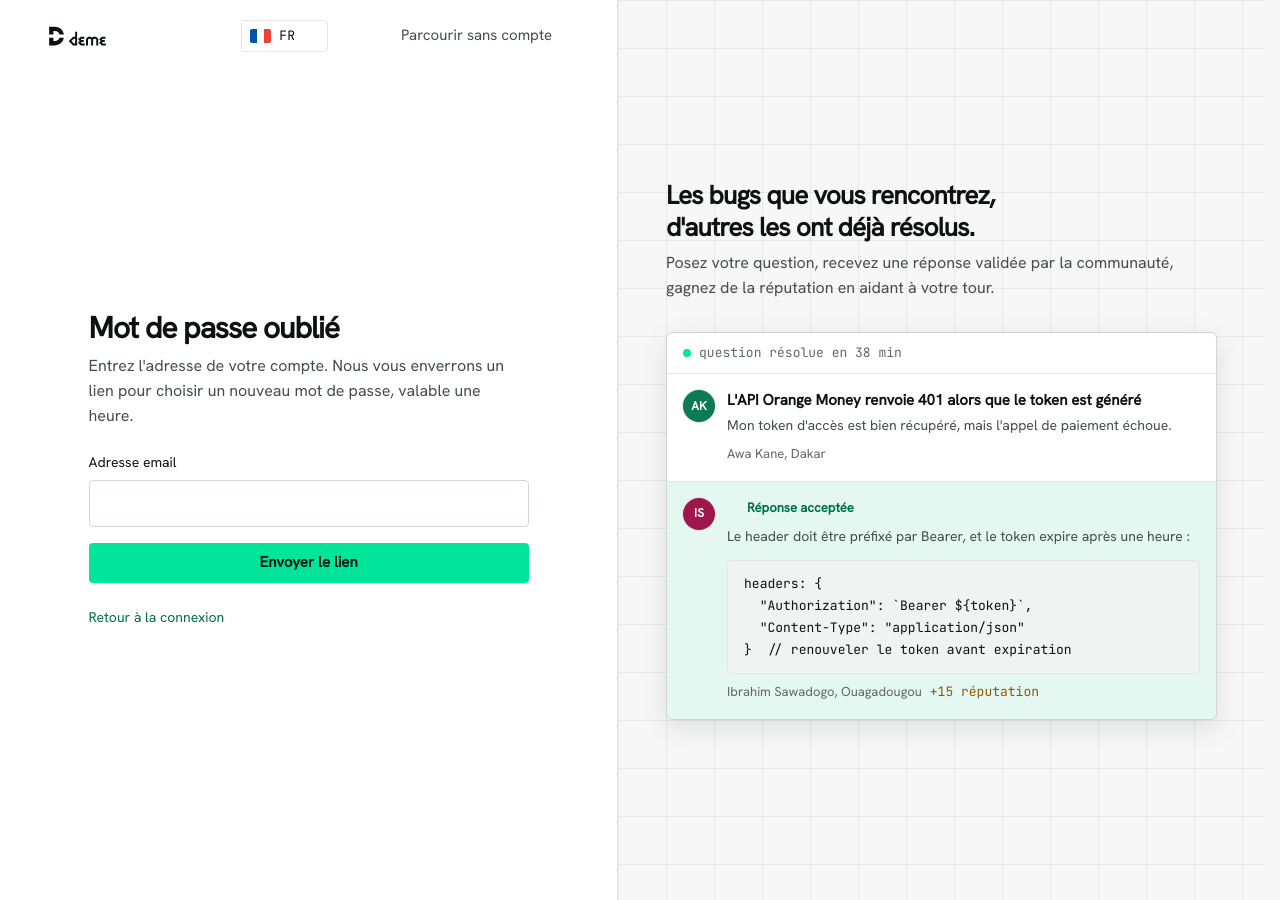
it: Mot de passe oublié (AUTH-4) › valide l'adresse, puis répond sans dire si le compte existe
In the field labelled "Adresse email": {"x": 308, "y": 503} [88,480,528,527], type "aminata"
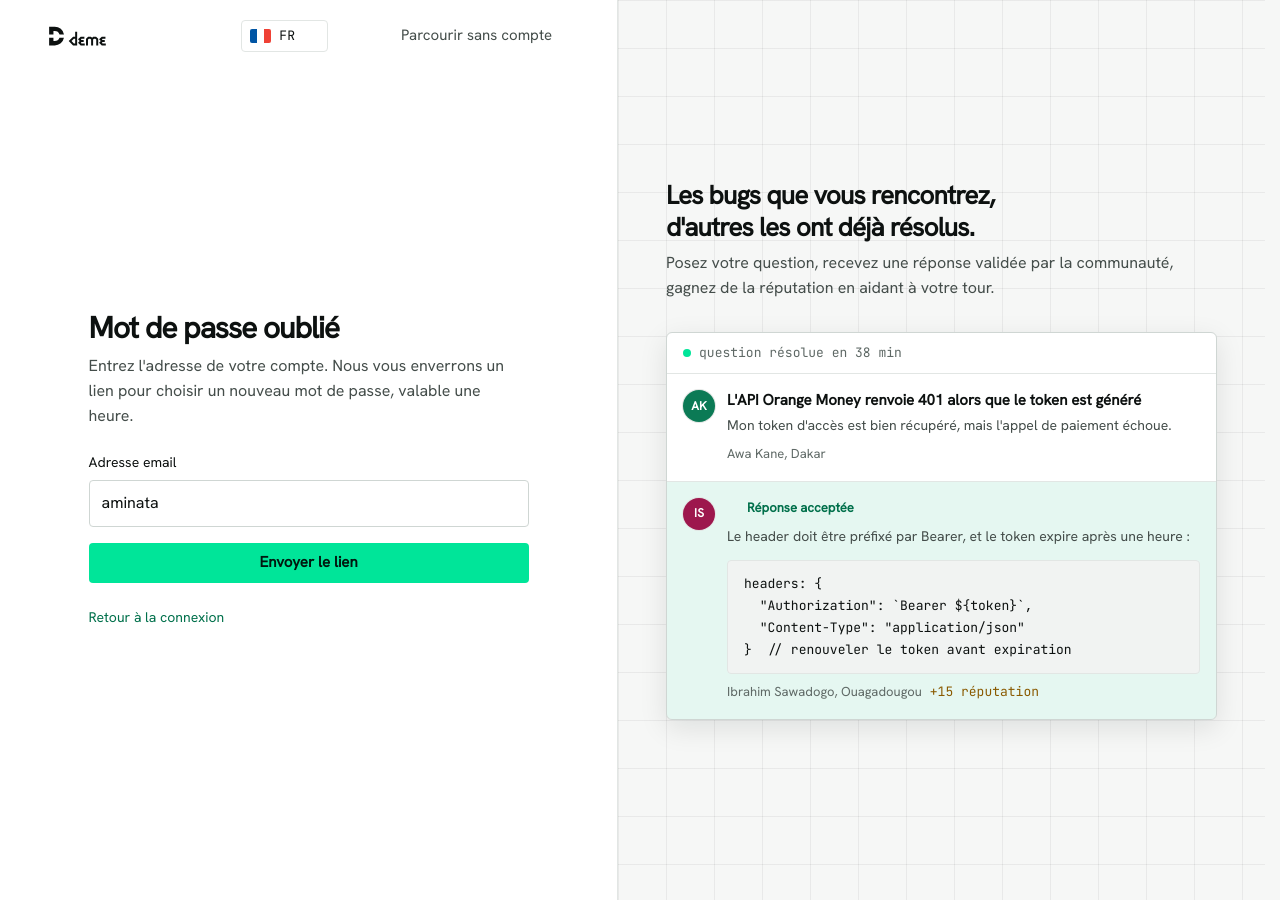
Click the button "Envoyer le lien": {"x": 308, "y": 563} [88,543,528,583]
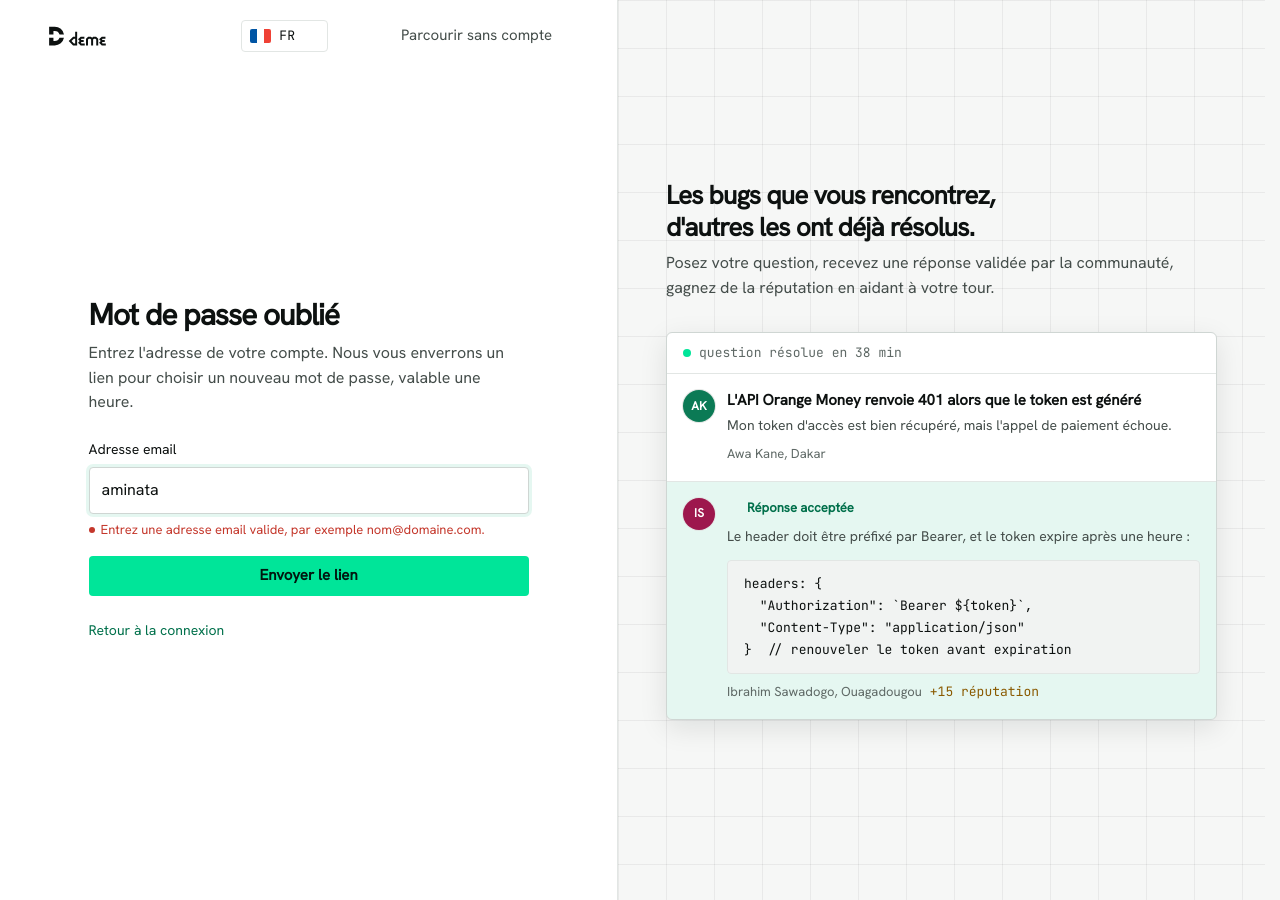
Now the text "adresse email valide" is shown, box [100,521,485,538]
Replace the text in the field labelled "Adresse email" with "aminata.ouedraogo@example.com": {"x": 308, "y": 490} [88,467,528,514]
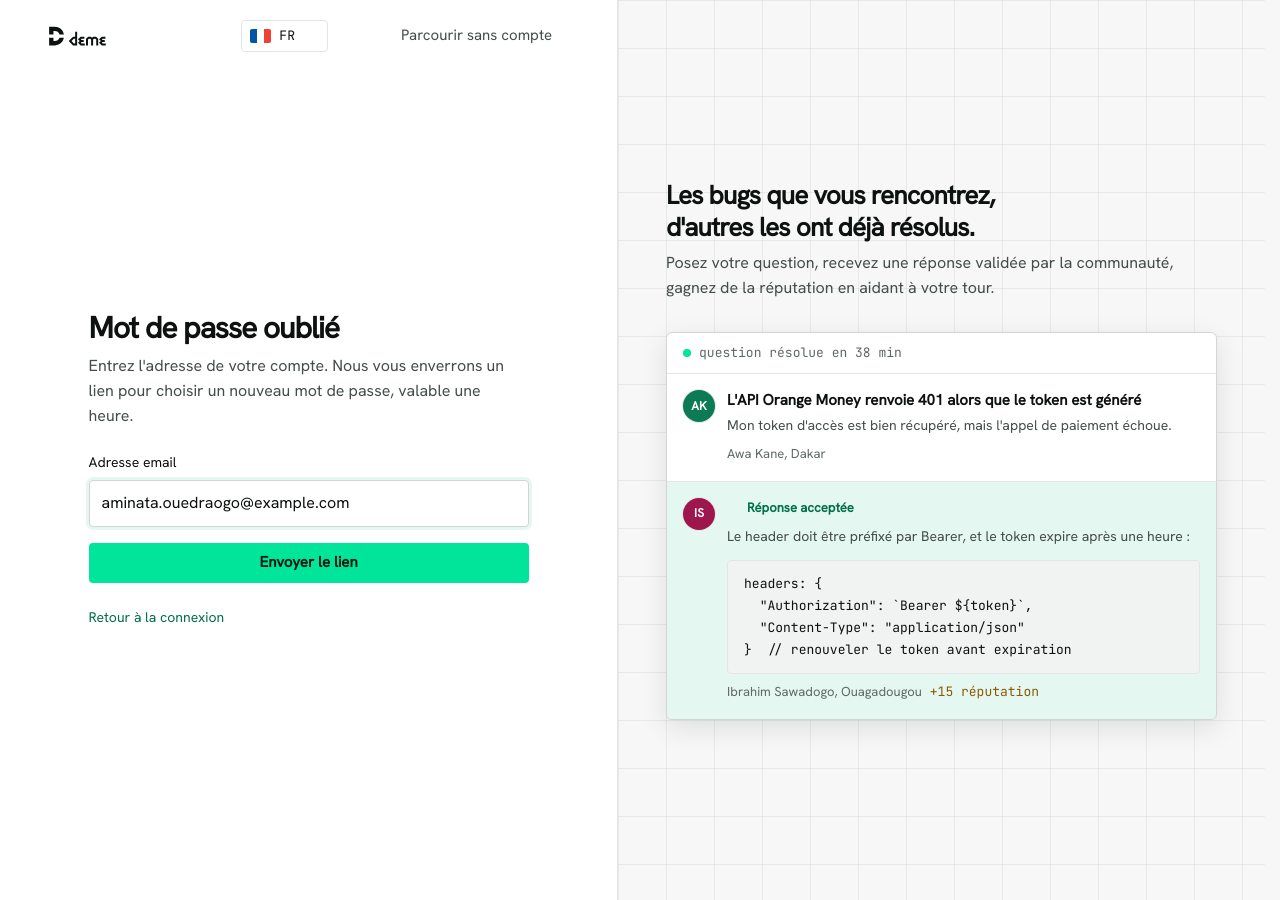
Click the button "Envoyer le lien": {"x": 308, "y": 563} [88,543,528,583]
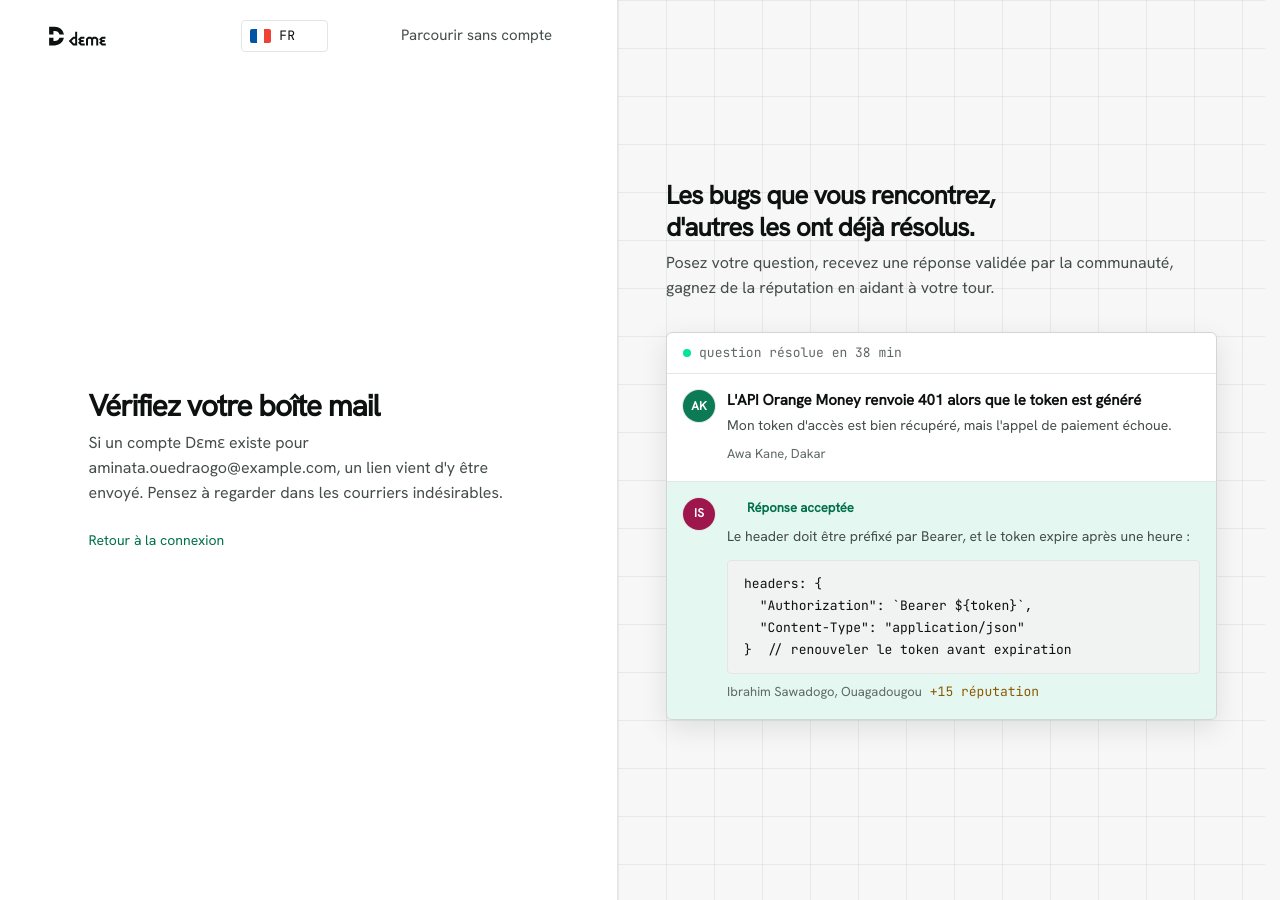
Now the text "Si un compte Dɛmɛ existe pour" is shown, box [88,432,503,503]
